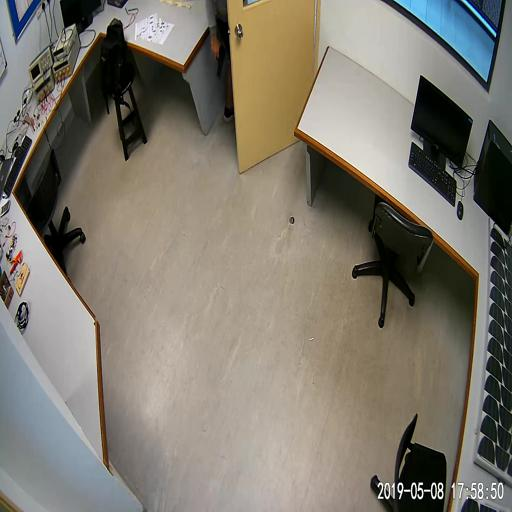pistol: (212, 44, 224, 78)
